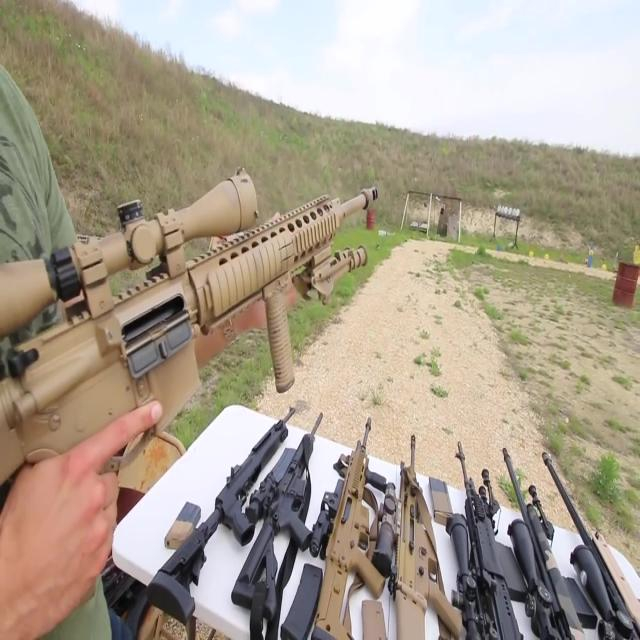Weapon: (129, 376, 640, 640), (0, 154, 420, 424)
